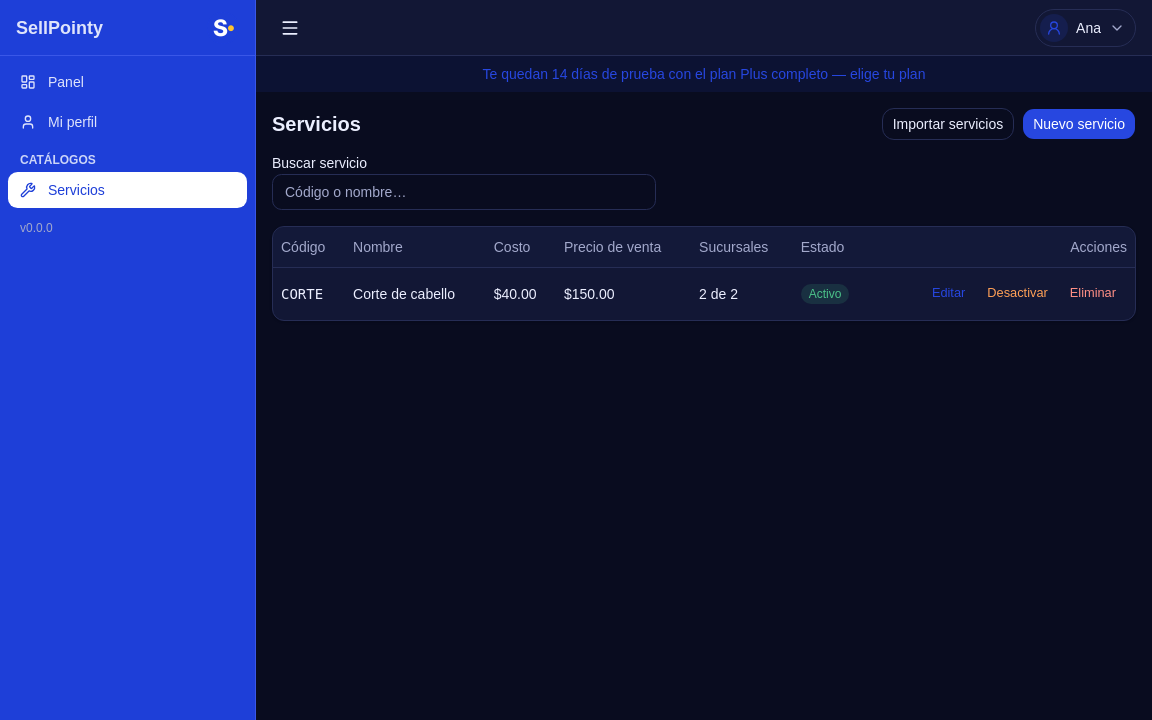
Test case: Catálogo de servicios (F3-SVC-04) › eliminar pide confirmación antes de mandar el DELETE
Expected: the text "Corte de cabello" is shown, [345, 267, 486, 320]
Click the button "Eliminar" at (1093, 294), box [1059, 280, 1127, 308]
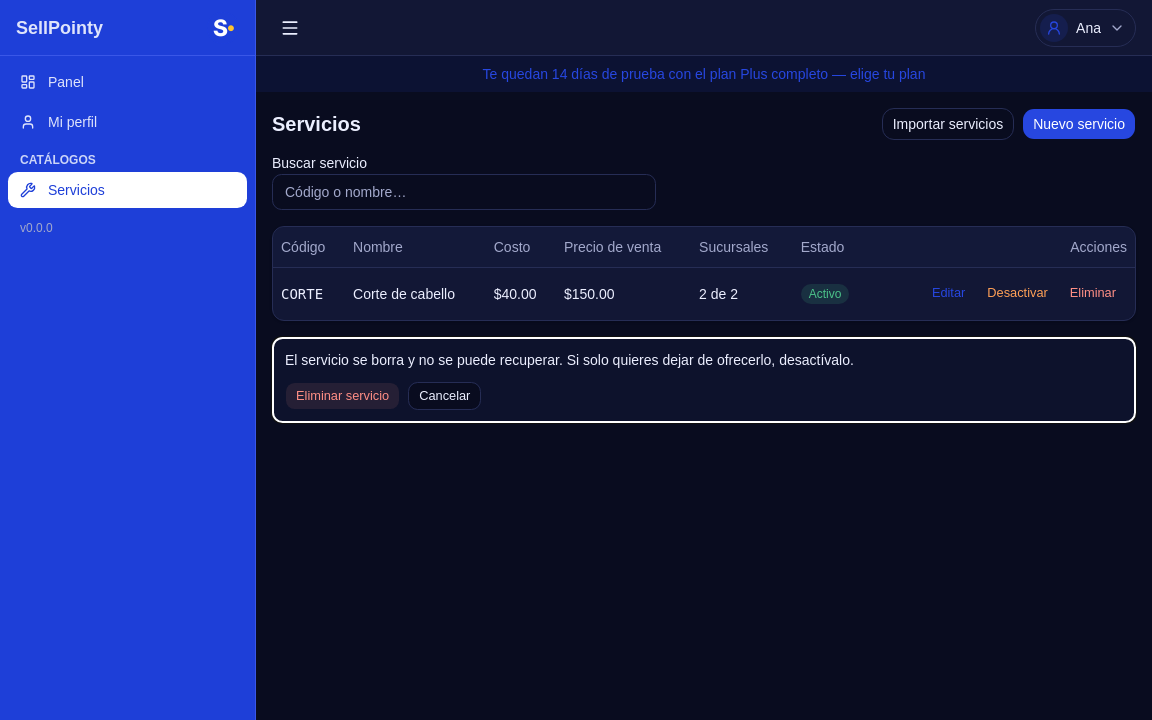
Click the button "Eliminar servicio" at (343, 396), box [285, 382, 400, 410]
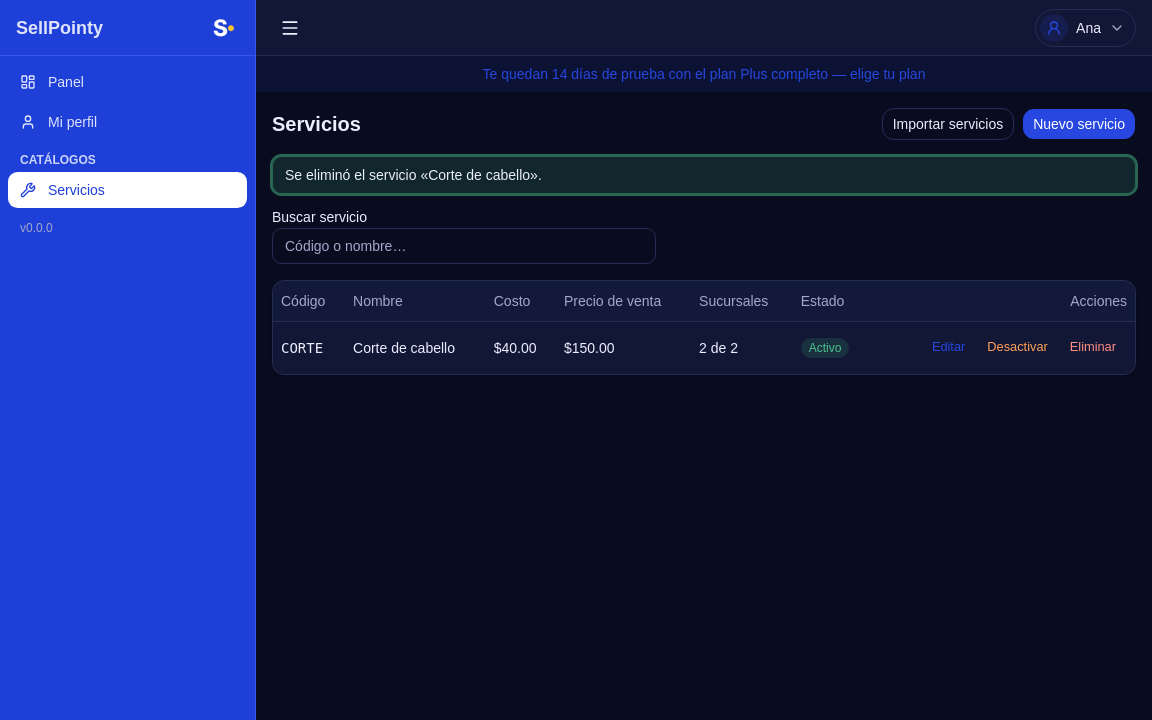
Expected: the message with test id "service-deleted" reads "Se eliminó el servicio «Corte de cabello».", [285, 167, 542, 183]
